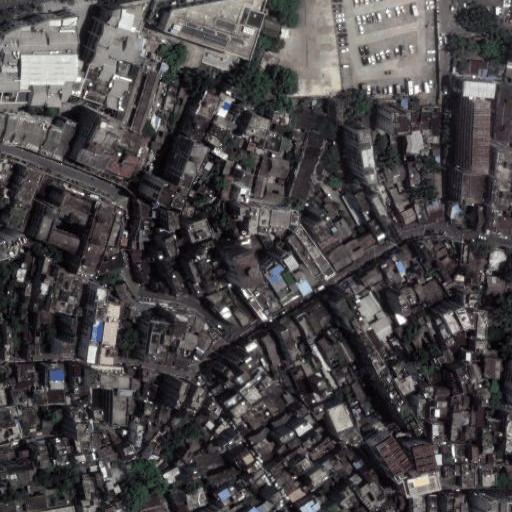building: (76, 0, 155, 113), (355, 332, 419, 431), (0, 13, 64, 104), (64, 118, 139, 176), (34, 193, 98, 254), (138, 131, 187, 203), (78, 203, 118, 277), (0, 116, 67, 159), (290, 132, 324, 204), (150, 0, 219, 32), (295, 227, 334, 278), (457, 93, 483, 169), (332, 292, 372, 338), (132, 70, 161, 133), (86, 287, 108, 365), (237, 205, 290, 237), (50, 270, 87, 315), (362, 429, 400, 471), (288, 234, 323, 279), (371, 195, 401, 244), (98, 304, 119, 367), (491, 150, 512, 211), (344, 120, 366, 176), (494, 78, 512, 143), (233, 253, 265, 289), (135, 317, 161, 358), (263, 263, 290, 300), (356, 292, 386, 325), (198, 47, 233, 74), (451, 167, 477, 202), (51, 315, 71, 360), (133, 201, 152, 248), (386, 473, 423, 496), (341, 191, 366, 225), (472, 491, 512, 512), (17, 168, 40, 204), (328, 244, 356, 273), (356, 480, 384, 509), (7, 199, 32, 231), (443, 307, 471, 335), (399, 434, 425, 464), (329, 401, 354, 432), (288, 364, 313, 395), (130, 250, 152, 285), (111, 388, 130, 428), (261, 332, 284, 365), (305, 305, 333, 332), (0, 235, 29, 261), (188, 89, 213, 119), (278, 328, 301, 360), (254, 436, 281, 463), (370, 314, 397, 341), (210, 358, 237, 385), (217, 485, 248, 508), (171, 377, 194, 406), (210, 464, 240, 486), (303, 466, 329, 491), (452, 77, 488, 95), (489, 209, 512, 237), (264, 121, 285, 151), (225, 346, 250, 371), (186, 219, 212, 243), (309, 440, 336, 463), (213, 93, 235, 121), (313, 217, 337, 242), (185, 487, 210, 511), (241, 381, 265, 406), (260, 285, 283, 311), (180, 113, 203, 139), (422, 279, 445, 305), (318, 233, 345, 255), (32, 388, 66, 405), (394, 373, 418, 397), (247, 113, 270, 138), (318, 336, 340, 362), (170, 270, 190, 298), (390, 188, 413, 212), (213, 298, 236, 322), (114, 281, 136, 306), (353, 191, 374, 217), (46, 362, 66, 389), (321, 366, 341, 393), (174, 86, 193, 114), (9, 471, 37, 490), (425, 199, 448, 222), (233, 450, 257, 472), (357, 268, 382, 289), (199, 449, 225, 469), (331, 340, 351, 366), (338, 424, 362, 445), (244, 409, 265, 433), (376, 103, 396, 128), (455, 367, 474, 393), (269, 158, 291, 180), (164, 233, 185, 256), (248, 426, 271, 447), (256, 367, 277, 390), (342, 484, 362, 508), (18, 404, 38, 428), (7, 460, 35, 477), (207, 121, 232, 140), (73, 366, 89, 395), (0, 420, 22, 441), (117, 440, 137, 463), (231, 397, 254, 417), (301, 433, 325, 452), (53, 437, 71, 462), (137, 495, 163, 512), (397, 293, 414, 319), (358, 232, 380, 252), (148, 129, 168, 151), (0, 366, 11, 406), (223, 433, 245, 453), (185, 463, 207, 483), (292, 455, 314, 475), (249, 296, 268, 319), (285, 317, 303, 341), (466, 60, 491, 77), (163, 85, 180, 110), (36, 446, 53, 471), (252, 397, 273, 417), (266, 176, 288, 195), (194, 411, 216, 430), (295, 315, 314, 337), (384, 264, 403, 286), (446, 493, 468, 512), (350, 380, 368, 403), (489, 247, 507, 270), (24, 495, 48, 512), (345, 238, 365, 258), (312, 344, 328, 369), (182, 443, 201, 464), (226, 389, 247, 408), (196, 158, 214, 180), (15, 364, 37, 382), (405, 361, 423, 383), (160, 374, 175, 400), (34, 313, 43, 356), (408, 161, 422, 188), (197, 259, 215, 280), (234, 308, 252, 329), (269, 457, 290, 475), (465, 362, 483, 383), (415, 200, 430, 225), (254, 174, 269, 199), (225, 84, 247, 101), (271, 411, 293, 428), (98, 376, 129, 388), (97, 447, 116, 466), (316, 378, 334, 398), (486, 276, 504, 296), (38, 255, 54, 277), (158, 405, 174, 427), (477, 310, 489, 339), (142, 397, 157, 420), (281, 254, 299, 273), (223, 112, 241, 131), (369, 220, 385, 241), (220, 176, 234, 200), (484, 357, 500, 378), (204, 278, 226, 293), (320, 459, 338, 477), (338, 460, 356, 478), (361, 466, 380, 483), (367, 330, 383, 350), (179, 332, 196, 350), (206, 400, 224, 417), (212, 421, 230, 438), (268, 490, 286, 507), (392, 361, 409, 379), (398, 246, 415, 264), (480, 469, 497, 487), (229, 98, 245, 117), (174, 496, 193, 512), (288, 487, 307, 503), (286, 447, 305, 463), (282, 269, 298, 288), (204, 132, 224, 147), (255, 497, 275, 512), (439, 276, 454, 296), (461, 245, 476, 265), (73, 437, 93, 452), (81, 474, 94, 497), (109, 466, 126, 483), (346, 471, 363, 488), (411, 129, 423, 153), (4, 326, 13, 358), (193, 334, 211, 350), (279, 370, 295, 388), (189, 260, 202, 282), (462, 465, 475, 487), (377, 185, 392, 204), (8, 389, 27, 404), (258, 156, 272, 176), (301, 499, 322, 512), (191, 280, 207, 297), (170, 322, 187, 338), (62, 417, 78, 434), (248, 463, 264, 480), (296, 419, 313, 435), (354, 410, 371, 426), (197, 237, 215, 252), (211, 259, 226, 277), (272, 111, 291, 125), (39, 275, 53, 294), (376, 499, 396, 512), (400, 208, 416, 224), (290, 267, 306, 283), (393, 258, 409, 274), (490, 61, 505, 78), (297, 278, 312, 295), (237, 186, 252, 203), (388, 332, 403, 349), (441, 347, 456, 364), (174, 354, 192, 368), (41, 505, 77, 512), (81, 498, 99, 512), (439, 267, 453, 285), (101, 475, 116, 491), (361, 399, 376, 415), (506, 415, 512, 455), (62, 403, 78, 418), (14, 447, 31, 461), (162, 467, 179, 481), (279, 430, 296, 444), (301, 360, 315, 377), (507, 352, 512, 399), (438, 322, 451, 340), (327, 96, 337, 119), (483, 431, 493, 454), (475, 406, 487, 425), (422, 172, 437, 187), (142, 446, 157, 461), (281, 389, 296, 404), (440, 255, 455, 270), (476, 387, 491, 402), (449, 382, 464, 397), (332, 367, 346, 383), (142, 368, 155, 385), (332, 501, 352, 512), (419, 112, 431, 130), (95, 461, 107, 479), (429, 405, 447, 417), (450, 207, 465, 221), (259, 234, 273, 249), (183, 202, 197, 217), (304, 411, 318, 426), (360, 420, 375, 434), (435, 247, 450, 261), (464, 424, 478, 439), (452, 444, 467, 458), (142, 385, 158, 398), (415, 284, 428, 300), (264, 192, 284, 202), (419, 397, 429, 417), (211, 148, 229, 159), (350, 457, 364, 471), (412, 498, 426, 512), (336, 445, 351, 458), (385, 168, 395, 187), (425, 316, 435, 335), (431, 113, 440, 134), (135, 424, 144, 445), (167, 212, 178, 229), (405, 287, 416, 304), (230, 166, 243, 180), (453, 336, 467, 349), (486, 418, 500, 431), (397, 161, 407, 179), (224, 160, 234, 178), (15, 267, 27, 282), (40, 420, 55, 432), (218, 503, 238, 512), (465, 292, 477, 307), (467, 307, 475, 329), (451, 426, 462, 442), (426, 496, 437, 512), (0, 408, 11, 424), (17, 380, 34, 390), (5, 279, 15, 296), (243, 288, 256, 301), (93, 409, 106, 422), (158, 461, 171, 474), (346, 449, 359, 462), (411, 338, 424, 351), (255, 476, 268, 488), (296, 405, 309, 417), (308, 355, 320, 368), (432, 424, 444, 437), (426, 133, 440, 144), (197, 186, 211, 197), (392, 166, 401, 183), (129, 377, 138, 394), (2, 502, 17, 512), (503, 62, 512, 78), (24, 282, 33, 298), (444, 336, 456, 348), (245, 341, 258, 352), (443, 241, 454, 254), (474, 258, 485, 271), (452, 413, 463, 426), (445, 465, 456, 478), (505, 37, 512, 57), (417, 312, 427, 326), (477, 339, 487, 353), (412, 112, 420, 129), (20, 304, 28, 321), (318, 209, 330, 220), (292, 356, 304, 367), (405, 343, 416, 355), (423, 386, 435, 397), (390, 135, 400, 148), (112, 437, 125, 447), (289, 210, 298, 224), (13, 280, 27, 289), (288, 437, 299, 448), (352, 283, 363, 294), (255, 147, 270, 155), (120, 230, 128, 245), (114, 500, 124, 512), (313, 403, 325, 413), (434, 241, 446, 251), (434, 388, 447, 397), (46, 490, 62, 497), (504, 277, 512, 291), (247, 141, 257, 152), (412, 305, 423, 315), (471, 272, 480, 284), (435, 396, 447, 405), (468, 409, 475, 424), (233, 137, 243, 147), (188, 189, 198, 199), (432, 437, 446, 444), (434, 453, 442, 465), (73, 455, 86, 462), (471, 447, 478, 460), (21, 257, 29, 268), (495, 452, 502, 464), (505, 466, 512, 478), (437, 356, 446, 365), (80, 466, 88, 476), (481, 398, 491, 406), (246, 506, 259, 512), (486, 348, 499, 354), (463, 411, 469, 424), (466, 352, 473, 363), (455, 465, 462, 476), (91, 466, 99, 475), (487, 454, 495, 463), (456, 273, 464, 281), (105, 507, 116, 512), (478, 458, 487, 463), (0, 161, 4, 172), (0, 312, 2, 325)
